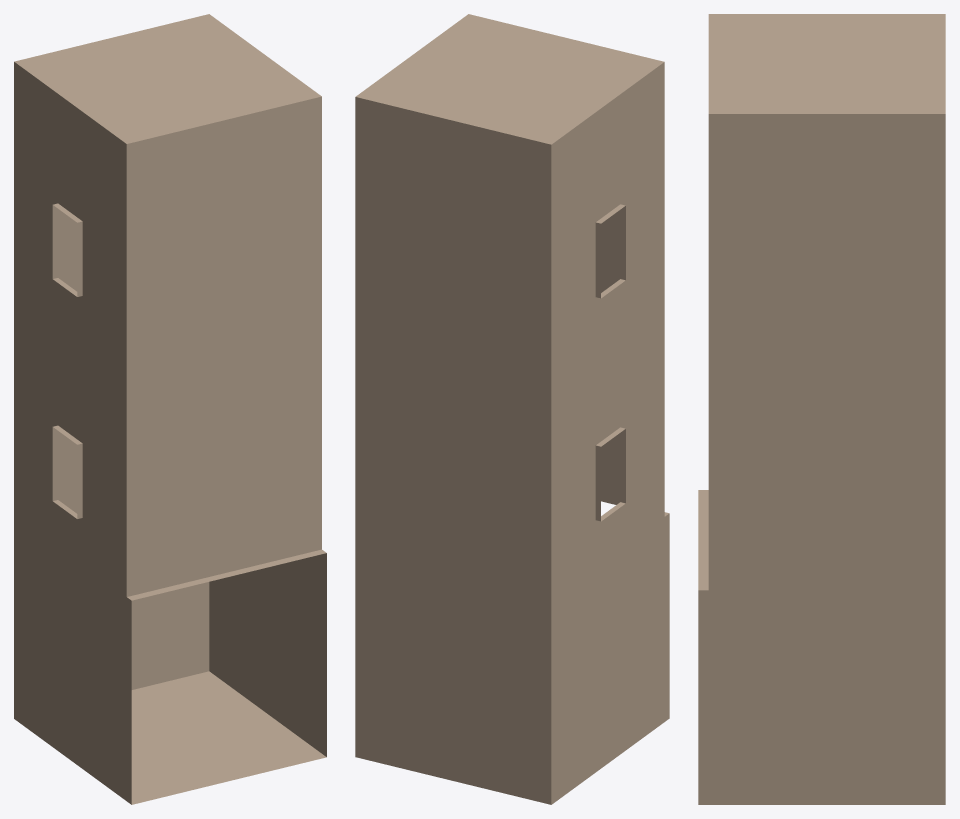
The model's file is roomB.glb.
The picture shows the model from 3 angles, left to right: view 1: azimuth 30°, elevation 25°; view 2: azimuth 150°, elevation 25°; view 3: azimuth 270°, elevation 25°; orthographic projection. The views are drawn at different scales.
Parts seen in each view (by area): view 1: BoxB; view 2: BoxB; view 3: BoxB.
Part boxes in pixels (<box>): BoxB: <box>14,14,326,804</box>; BoxB: <box>355,14,669,804</box>; BoxB: <box>698,14,945,804</box>.
Size of the model in its own units: 4.73 by 14.8 by 4.8.
